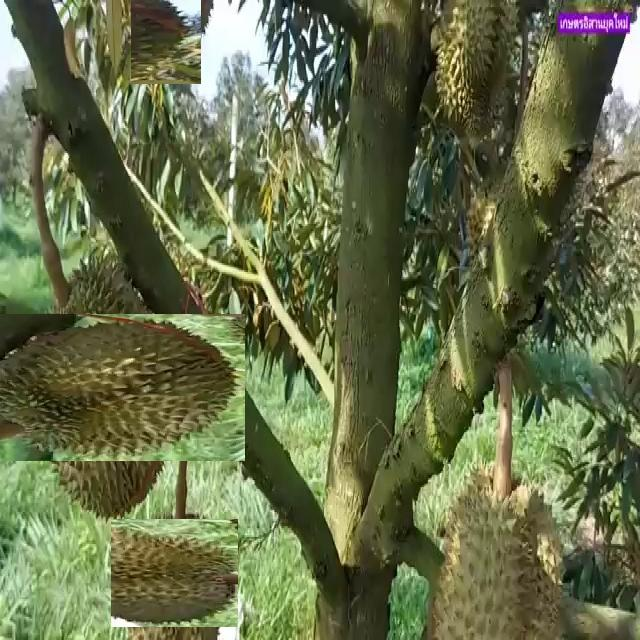durian: (0, 279, 211, 495), (417, 453, 567, 638), (115, 514, 234, 632), (432, 0, 522, 153), (124, 0, 207, 76)
